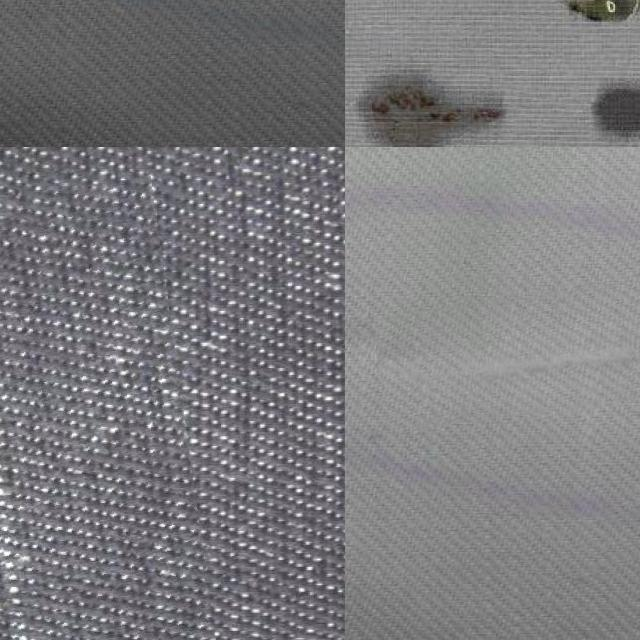Thread_other: (345, 39, 533, 147), (559, 61, 640, 147), (544, 0, 640, 40)
stains: (0, 183, 211, 640), (376, 284, 640, 423)
